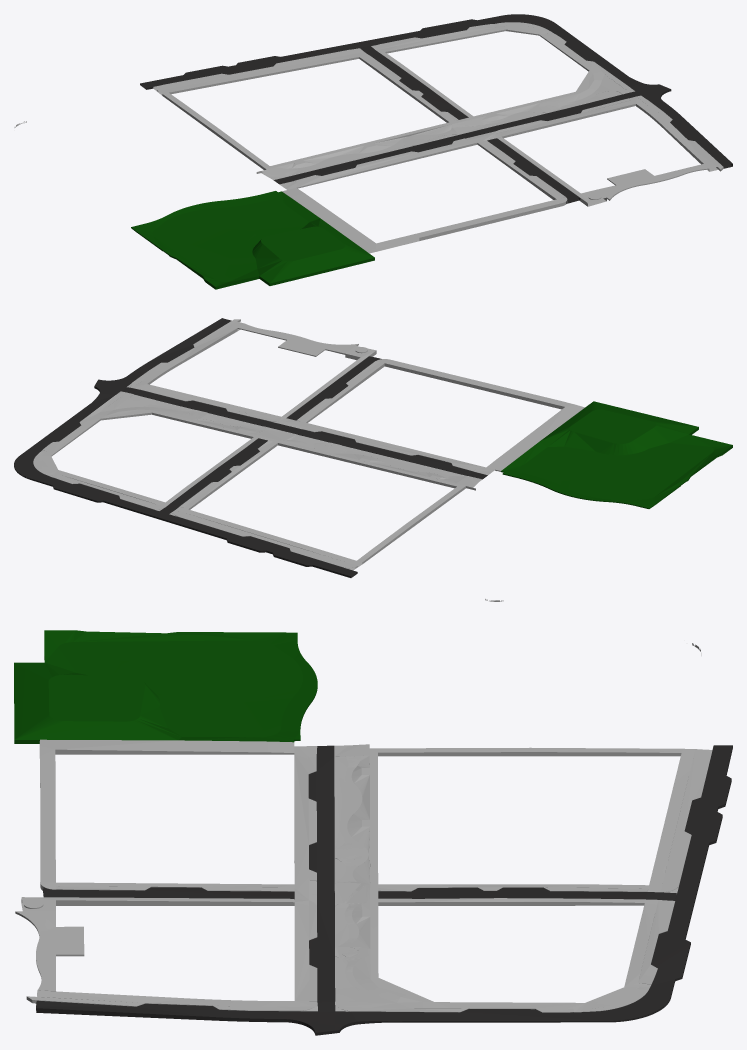
File: KVArter 2-5.fbx
3 views of the same model, one above another, from view 1: azimuth 30°, elevation 25°; view 2: azimuth 150°, elevation 25°; view 3: azimuth 270°, elevation 25° (orthographic). The views are drawn at different scales.
Visible parts, largest first — view 1: Pasrken, Kvarter 2, Kvarter 4, Kvarter 3, Kvarter 5, Väg.002, Väg.003, Väg.006, Väg.005, Väg.007, Väg.004; view 2: Pasrken, Kvarter 2, Kvarter 3, Kvarter 4, Kvarter 5, Väg.002, Väg.003, Väg.005, Väg.006, Väg.007, Väg.004; view 3: Pasrken, Kvarter 2, Kvarter 3, Kvarter 4, Kvarter 5, Väg.003, Väg.002, Väg.006, Väg.005, Väg.007, Väg.004.
Part boxes in pixels (x1,y1,x2,y2): Pasrken: (131,191,374,289); Kvarter 2: (153,48,474,176); Kvarter 4: (256,134,567,253); Kvarter 3: (371,22,634,130); Kvarter 5: (14,95,723,206); Väg.002: (140,41,468,119); Väg.003: (365,14,660,91); Väg.006: (636,85,732,168); Väg.005: (273,131,481,184); Väg.007: (476,91,640,134); Väg.004: (487,138,580,203); Pasrken: (501,401,732,508); Kvarter 2: (169,430,466,570); Kvarter 3: (33,391,280,510); Kvarter 4: (286,359,584,490); Kvarter 5: (127,319,503,601); Väg.002: (152,438,357,577); Väg.003: (14,385,158,516); Väg.005: (281,425,487,479); Väg.006: (95,318,231,391); Väg.007: (121,387,285,430); Väg.004: (286,356,381,420); Pasrken: (14,630,317,743); Kvarter 2: (334,747,712,894); Kvarter 3: (335,891,675,1012); Kvarter 4: (39,739,369,893); Kvarter 5: (15,643,701,1011); Väg.003: (334,900,694,1033); Väg.002: (378,745,732,902); Väg.006: (36,1000,335,1035); Väg.005: (308,745,334,894); Väg.007: (309,893,335,1011); Väg.004: (43,887,294,899).
Bounding box in the file's own units: 29454 × 455 × 22326.
